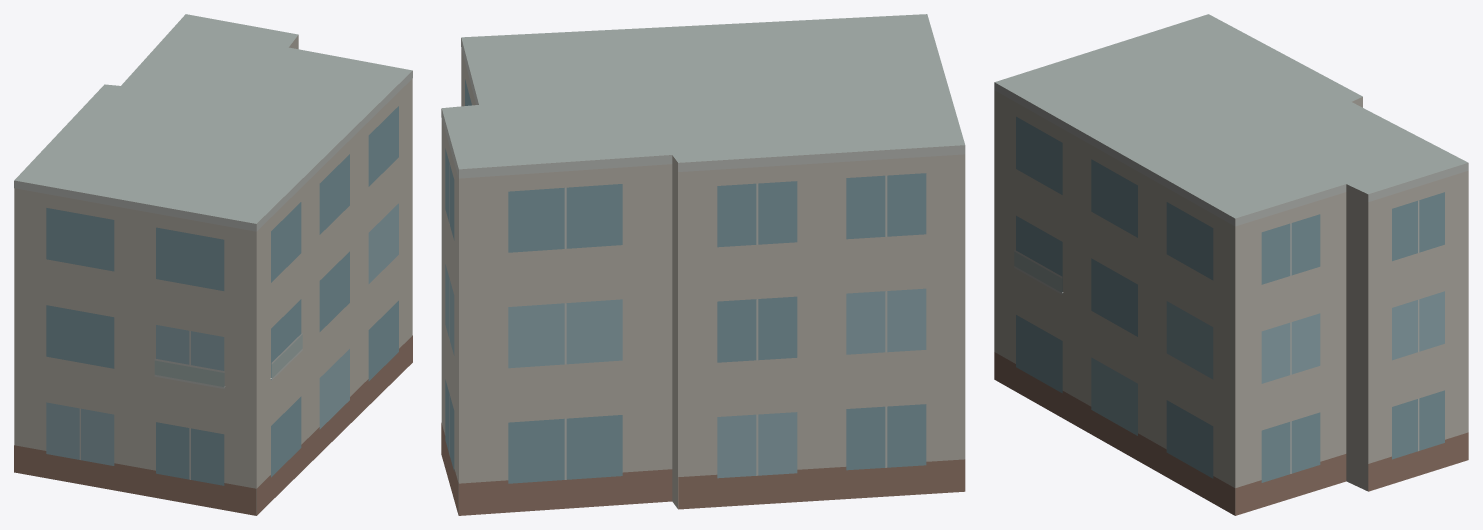
Rendered from survey-upis-32659885.glb.
The picture shows the model from 3 angles, left to right: view 1: azimuth 30°, elevation 25°; view 2: azimuth 150°, elevation 25°; view 3: azimuth 270°, elevation 25°; orthographic projection. The views are drawn at different scales.
Parts seen in each view (by area): view 1: survey-upis-32659885.tmp; view 2: survey-upis-32659885.tmp; view 3: survey-upis-32659885.tmp.
Part boxes in pixels (x1,y1,x2,y2): survey-upis-32659885.tmp: (14, 14, 412, 515); survey-upis-32659885.tmp: (441, 14, 965, 515); survey-upis-32659885.tmp: (994, 14, 1468, 515).
Size of the model in its own units: 13.51 by 9.15 by 13.23.
